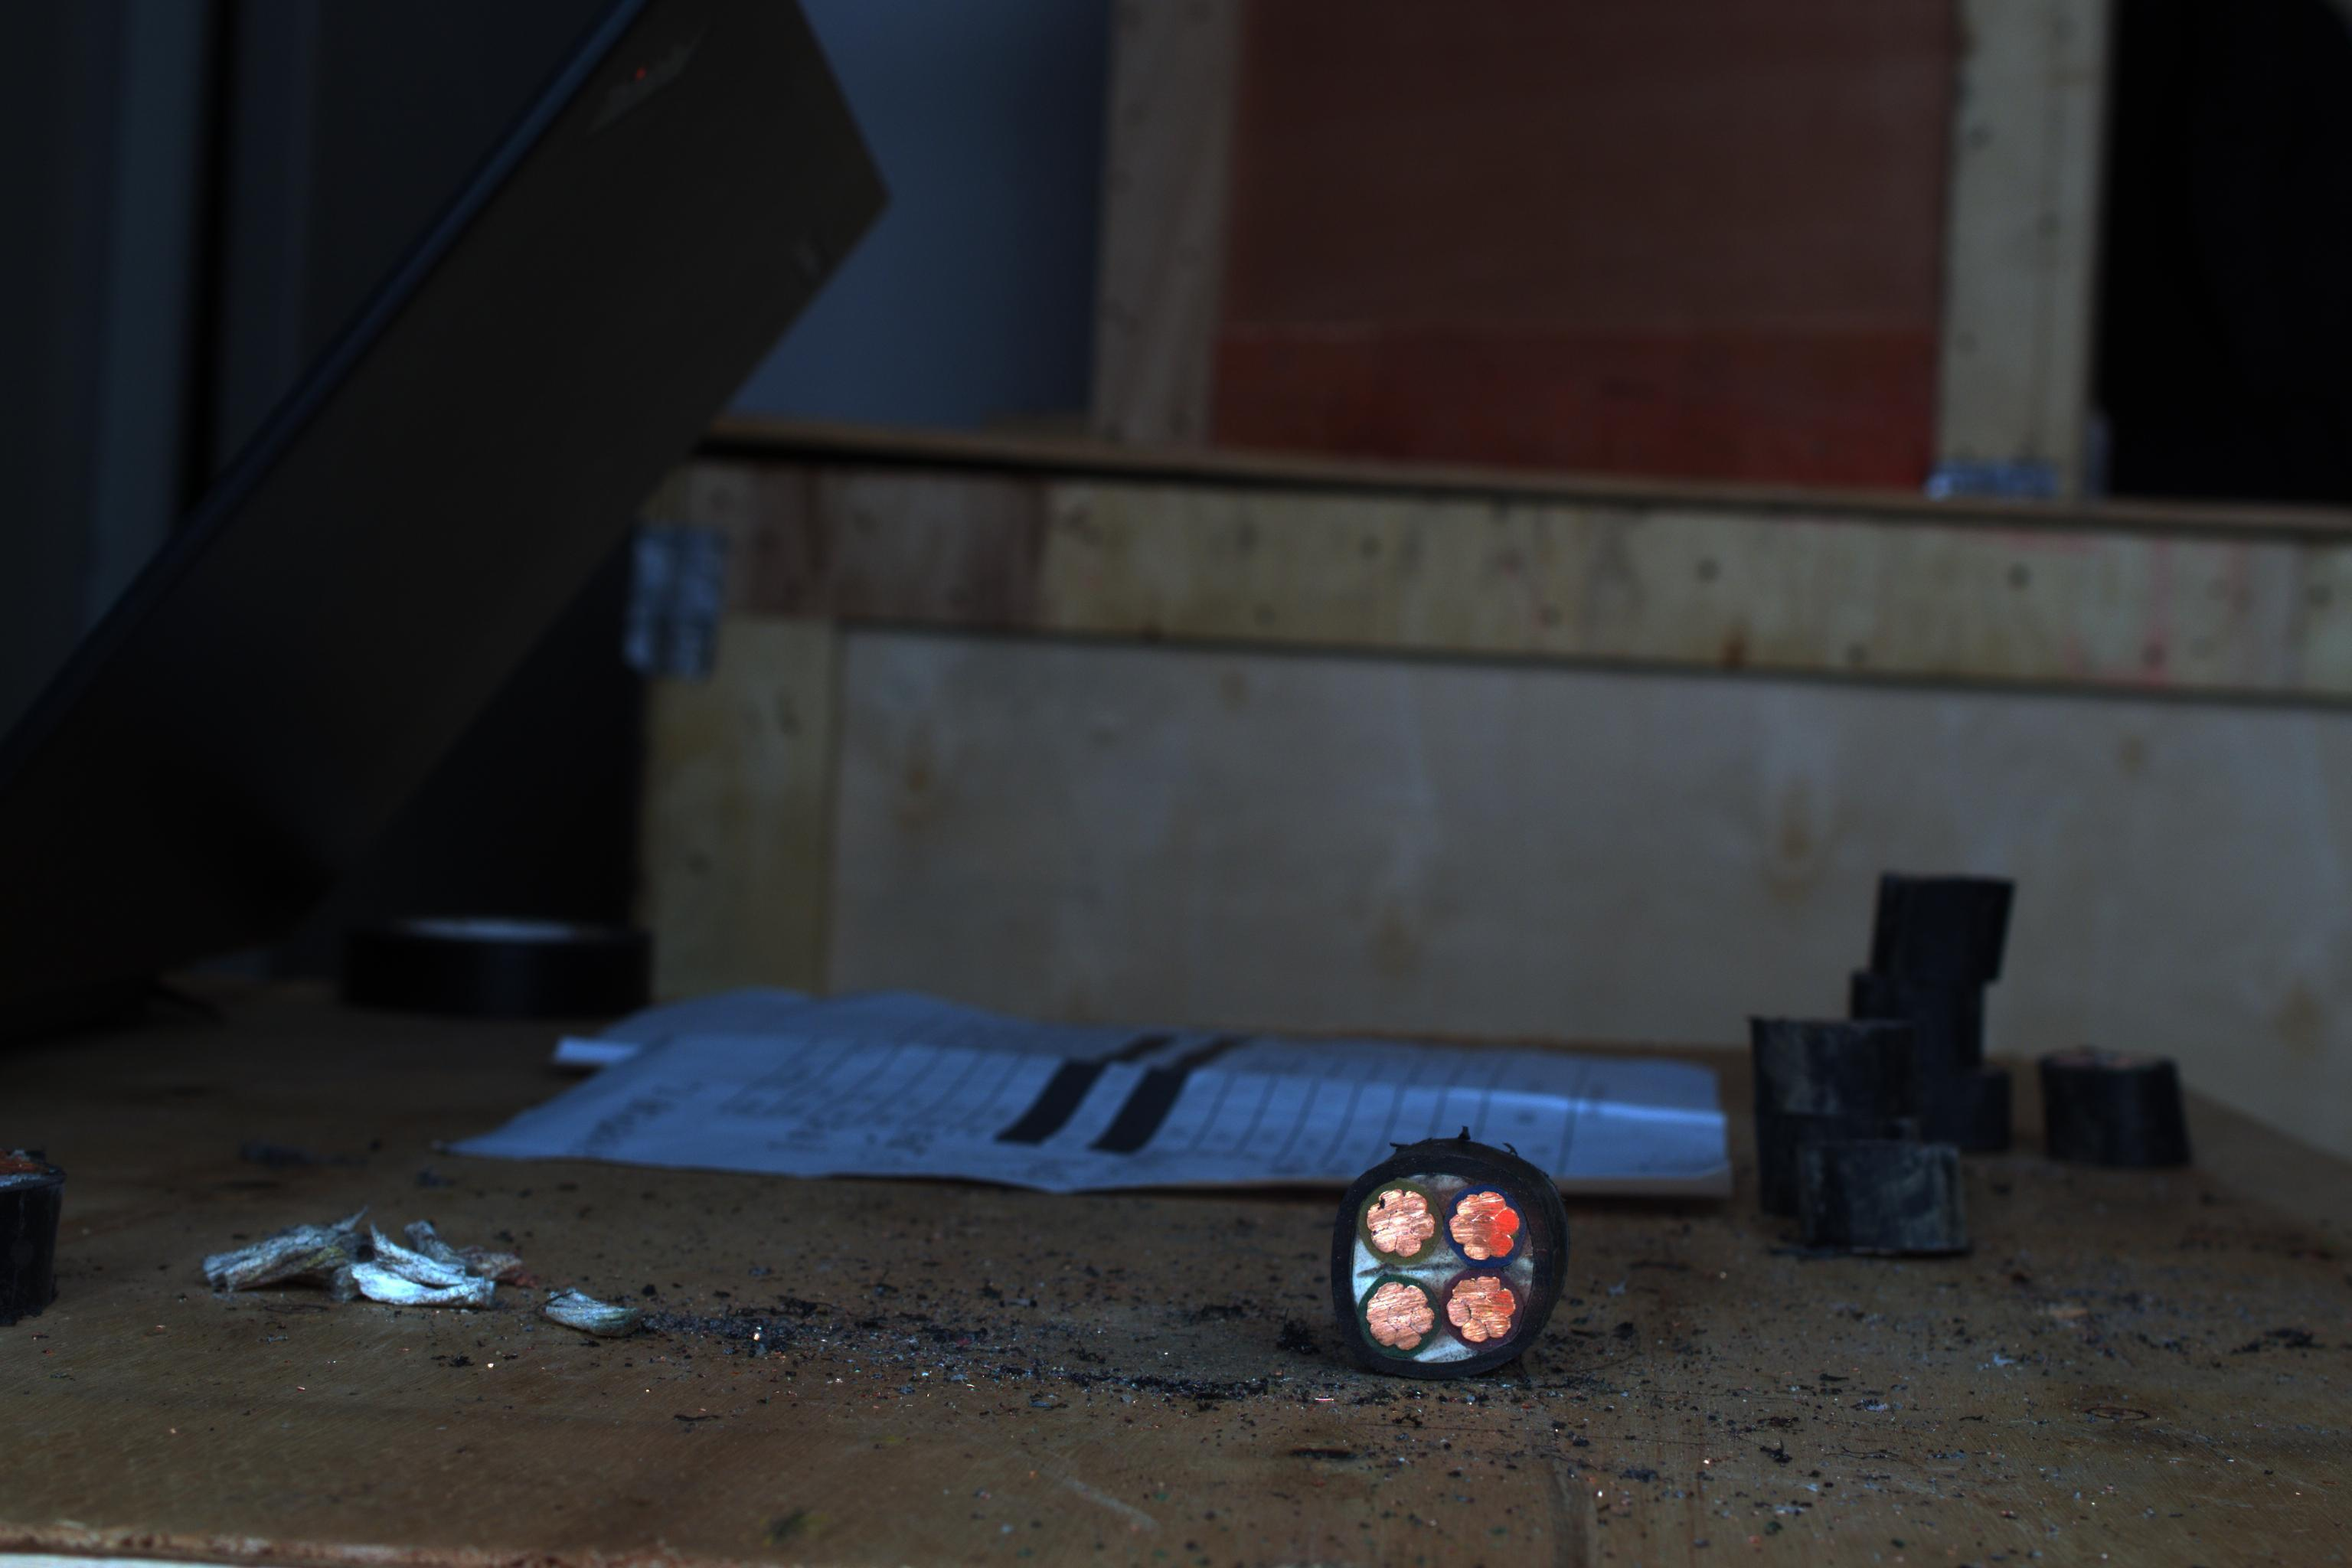YJV_0.6_1kV_4x35: (1323, 1122, 1550, 1360)
